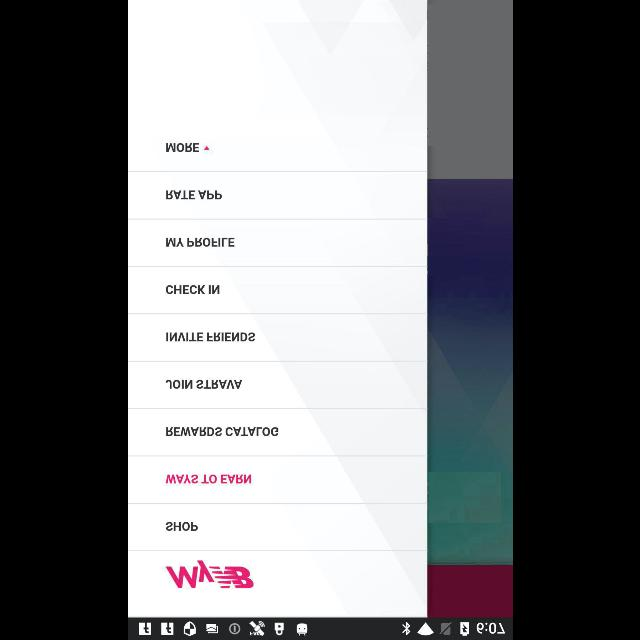image: (164, 560, 253, 588)
panel: (128, 0, 426, 616)
text: (165, 426, 278, 436), (166, 332, 254, 342), (165, 474, 251, 484), (164, 379, 242, 388), (166, 237, 234, 247), (164, 190, 222, 200), (165, 284, 219, 294), (165, 143, 199, 153), (165, 521, 198, 531)
uppertaskbar: (128, 617, 512, 639)
